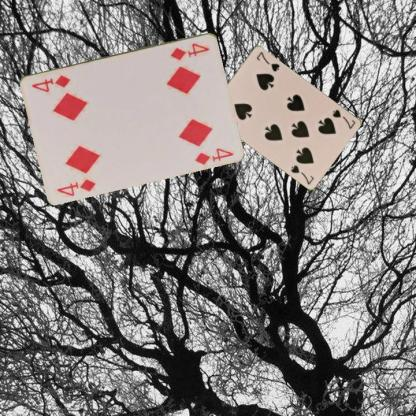4d: (54, 176, 97, 199), (168, 40, 211, 61)
7s: (330, 107, 357, 130)
